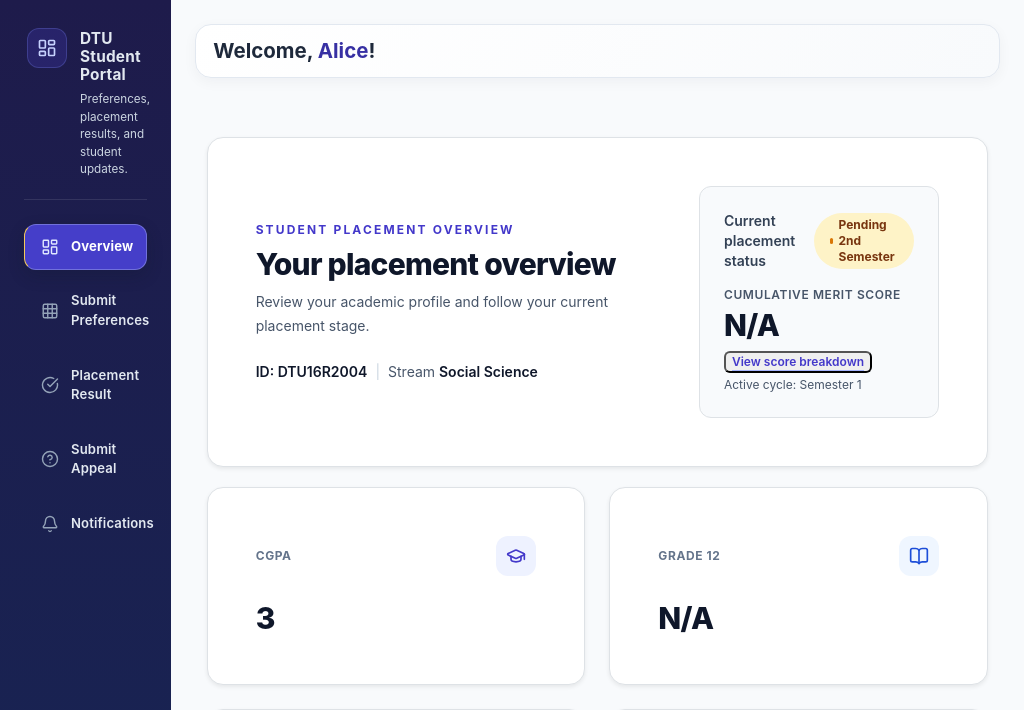
StudentDashboard › uses the active first semester form for editable students and shows no duplicate lock warnings
Click the button "Submit Preferences": [85, 311] box [24,278,147,344]
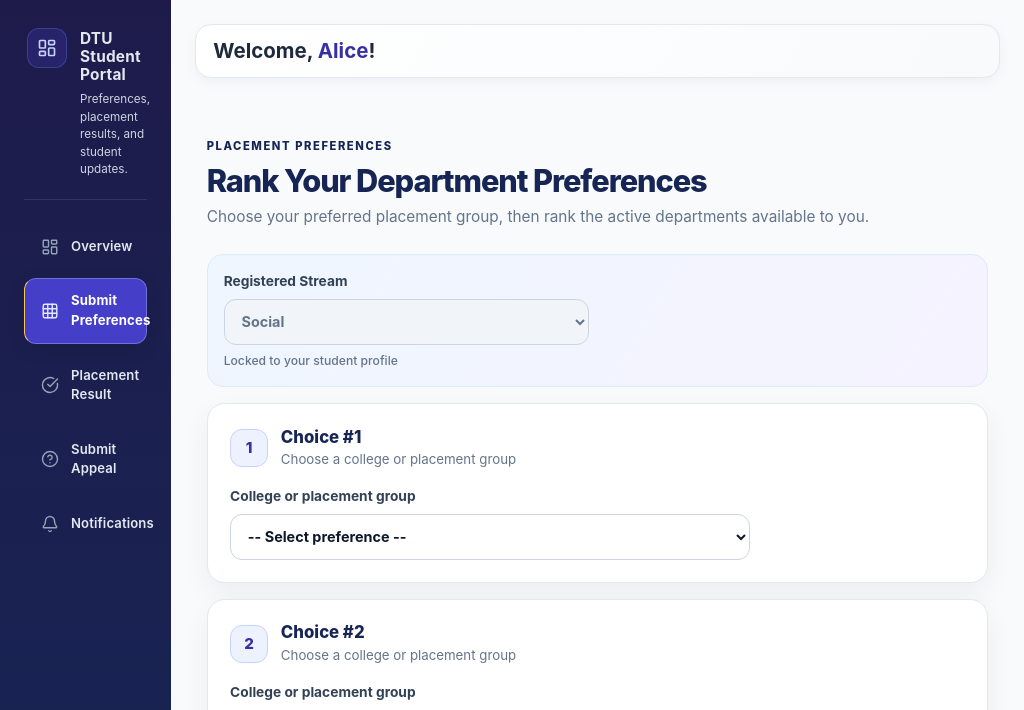
Expected: the dropdown named "Registered Stream (Locked to your profile)" is shown, [224,299,589,345]
Expected: the dropdown named "Choice #1" is enabled, [230,514,750,560]
